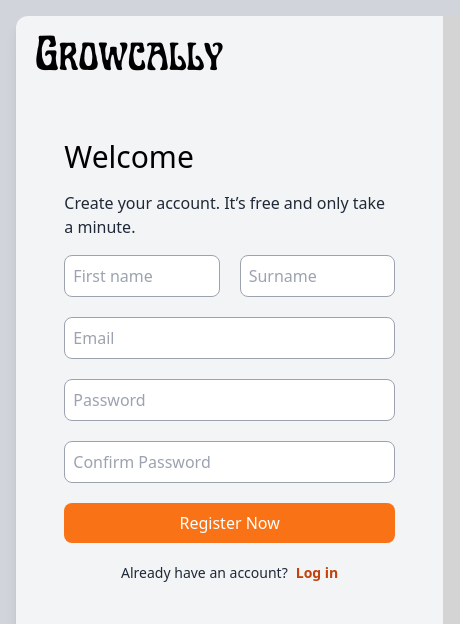
SignUpPage › should show error message for invalid email
The width and height of the screenshot is (460, 624).
Enter an invalid email address
Step 1. Type "gmail.com" into the field with placeholder "Email" → coordinates (230, 338), box [64,317,395,359]
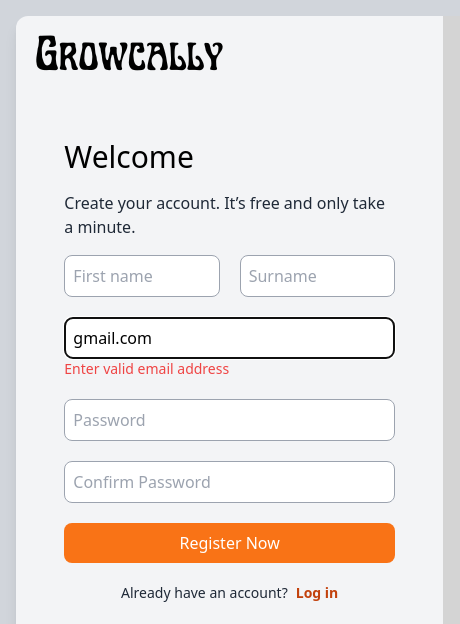
expect the text "Enter valid email address" is shown: met, box [64,359,229,378]
